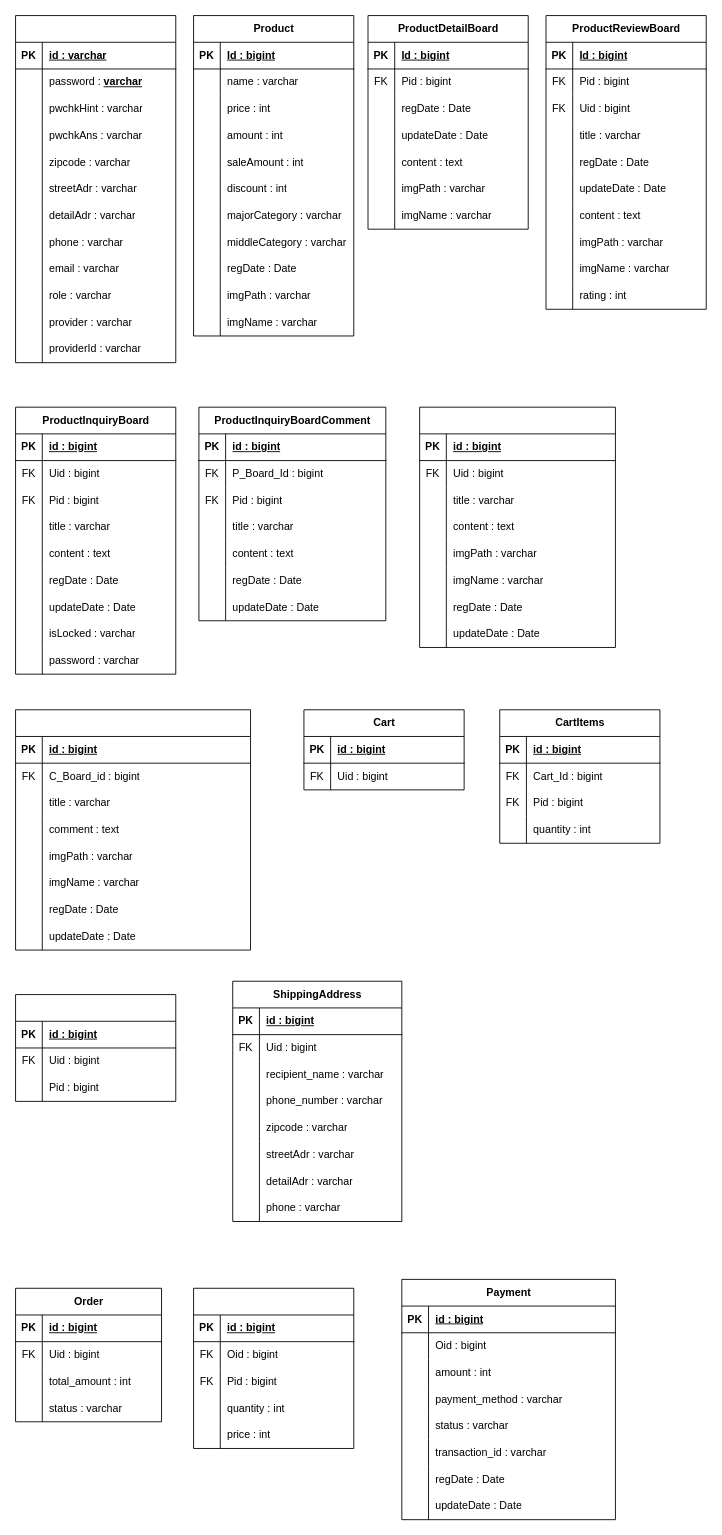
This 722x1535 diagram has some shape labels left out. The shapes that lost their labels are listed below. From the top down, each one's box as (x1, y1, x2, y2) in pixels, then its label:
(15, 15, 176, 363): User
(419, 406, 615, 647): CustomerSupportForumBoard
(15, 709, 251, 950): CustomerSupportForumBoardComment
(15, 994, 176, 1101): WishList
(193, 1287, 354, 1448): OrderItem
